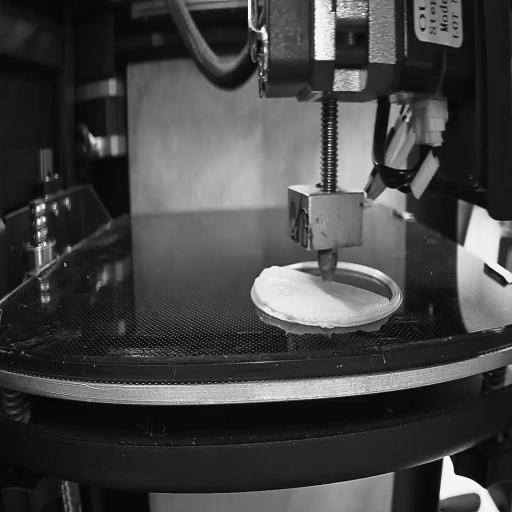over_extrusion: (252, 258, 276, 311)
